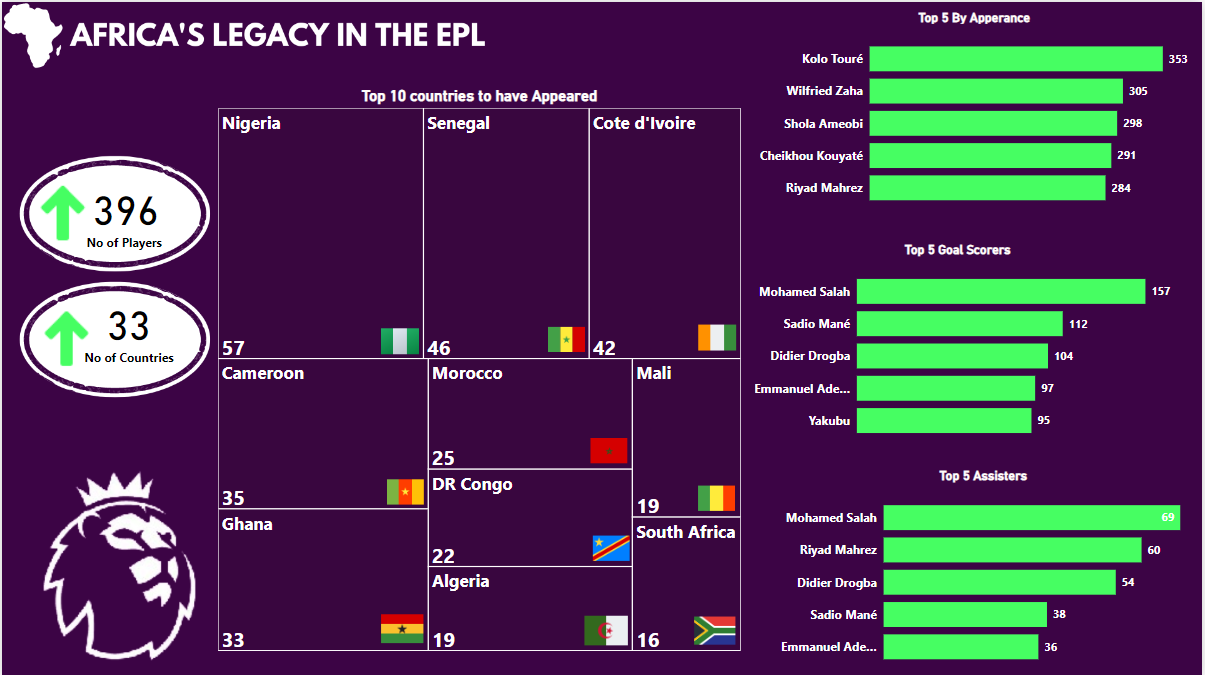

The dashboard page shown, as its layout file describes it:
{"tool":"powerbi","page":{"name":"Page 1","canvas":[1600,900],"ordinal":0},"visuals":[{"type":"shape","box":[19.6,160.4,245.9,345.7],"z":0,"group":"g1"},{"type":"barChart","title":"Top 5 Goal Scorers","fields":{"Y":["Goals1.Goals"],"Category":["Goals1.NAME"]},"box":[1000,316,588.3,278.3],"z":0},{"type":"barChart","title":"Top 5 Assisters","fields":{"Y":["Assist.Assist"],"Category":["Assist.NAME"]},"box":[1016.7,621.7,583.3,278.3],"z":1000},{"type":"barChart","title":"Top 5 By Apperance","fields":{"Category":["Apps2.NAME"],"Y":["Apps2.Matches"]},"box":[1005.7,10.7,582.6,278],"z":2000},{"type":"card","fields":{"Values":["Nations.Players"]},"box":[67.7,185.3,237,149.7],"z":2000,"group":"g1"},{"type":"treemap","title":"Top 10 countries to have Appeared ","fields":{"Group":["Nations.Nation"],"Values":["Nations.Players"]},"box":[286.9,121.2,705.6,757.2],"z":3000},{"type":"image","box":[0,618.3,305,281.7],"z":4000},{"type":"textbox","box":[95,10,570,90],"z":5000},{"type":"image","box":[0,0,108.3,121.7],"z":6000},{"type":"image","box":[19.6,185.3,89.1,149.7],"z":6000,"group":"g1"},{"type":"group","id":"g1","title":"Group 1","box":[19.6,160.4,285.1,345.7],"z":7000},{"type":"card","fields":{"Values":["Nations.Nation"]},"box":[94.4,333.2,185.3,112.2],"z":9000,"group":"g1"},{"type":"image","box":[19.6,320.8,89.1,149.7],"z":10000,"group":"g1"}]}

Visuals, with their boxes in screenshot pixels (x1, y1, x2, y2), scaled from the page's 1600x900 canvas onto the 1205x675 screenshot:
shape: 15, 120, 200, 380
"Top 5 Goal Scorers" barChart: 753, 237, 1196, 446
"Top 5 Assisters" barChart: 766, 466, 1204, 674
"Top 5 By Apperance" barChart: 757, 8, 1196, 217
card - Nations.Players: 51, 139, 229, 251
"Top 10 countries to have Appeared " treemap: 216, 91, 747, 659
image: 0, 464, 230, 674
textbox: 72, 8, 501, 75
image: 0, 0, 82, 91
image: 15, 139, 82, 251
"Group 1" group: 15, 120, 229, 380
card - Nations.Nation: 71, 250, 211, 334
image: 15, 241, 82, 353
